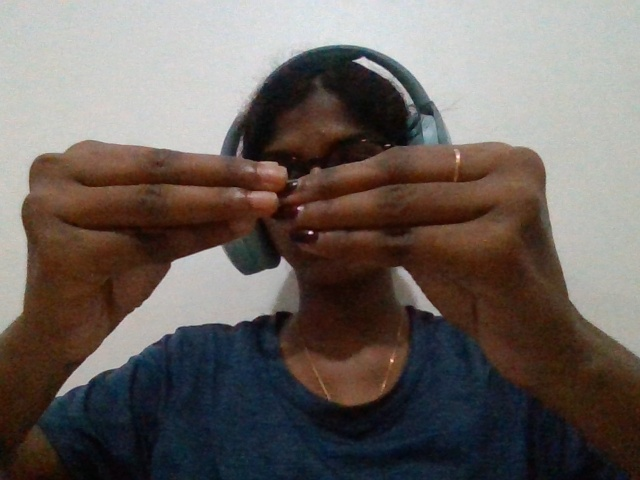More: (10, 102, 599, 447)
